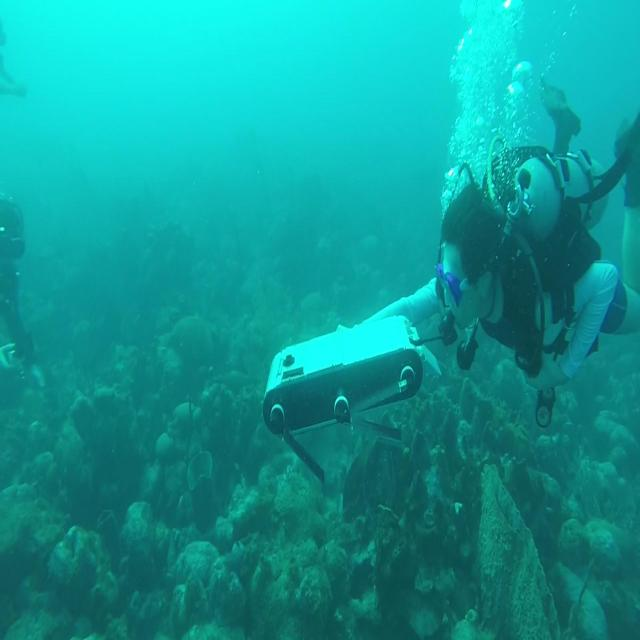human: (434, 141, 639, 426)
